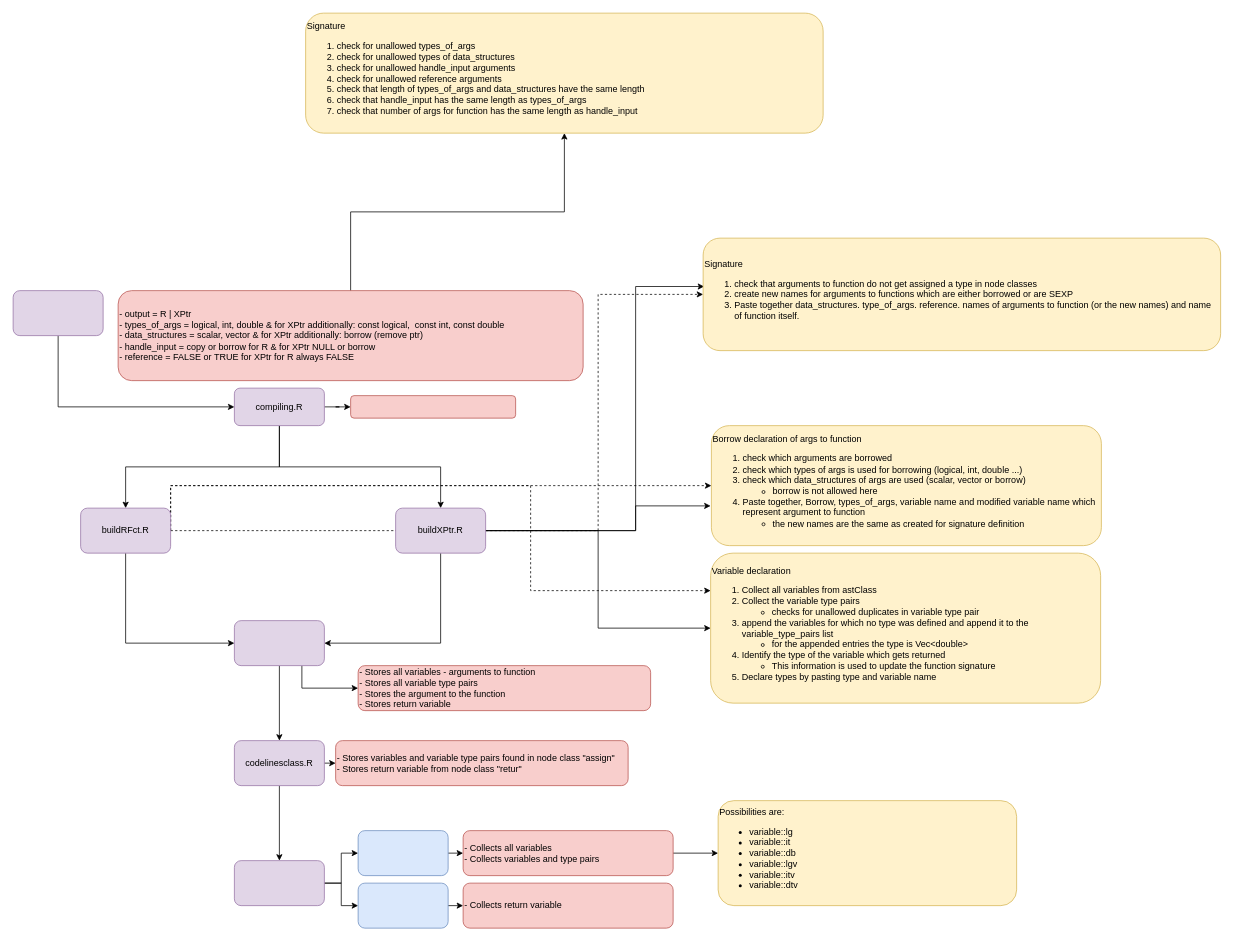
Image size: 1234x941. Some labels were removed from this diagram. Here are the shapes that lost their labels. From the top down, the centre of each, then its label:
the point at 57,313: translate.R
the point at 433,406: passes arguments from translate further
the point at 279,643: astClass.R
the point at 402,853: assignment class
the point at 279,883: node_classes.R
the point at 402,905: return class
